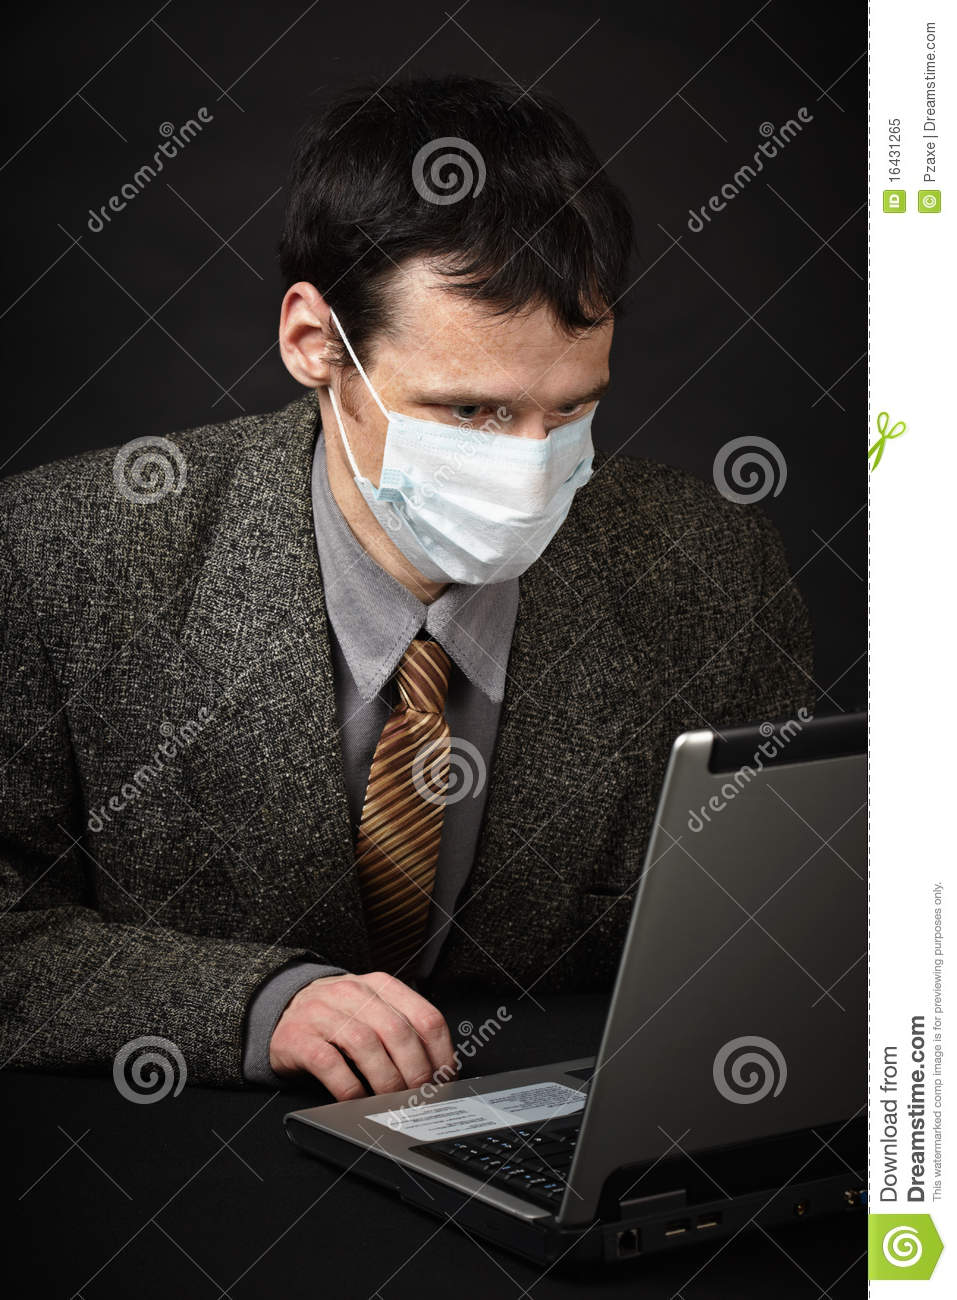mask: (357, 417, 598, 589)
